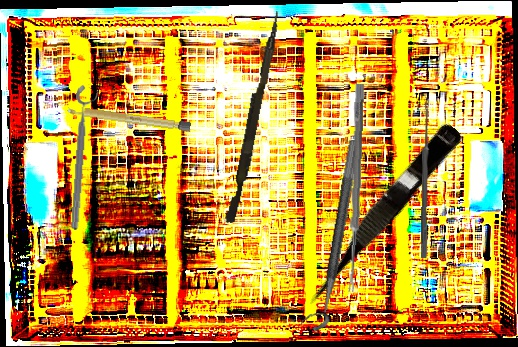Fixation Ring: (298, 136, 362, 335), (66, 84, 101, 231)
Micro Scissor: (296, 118, 465, 311)
Pusher: (225, 8, 282, 225)
Scalpel Handle: (66, 104, 192, 132)
Surgical Spoon: (346, 83, 365, 293), (420, 98, 431, 259)
